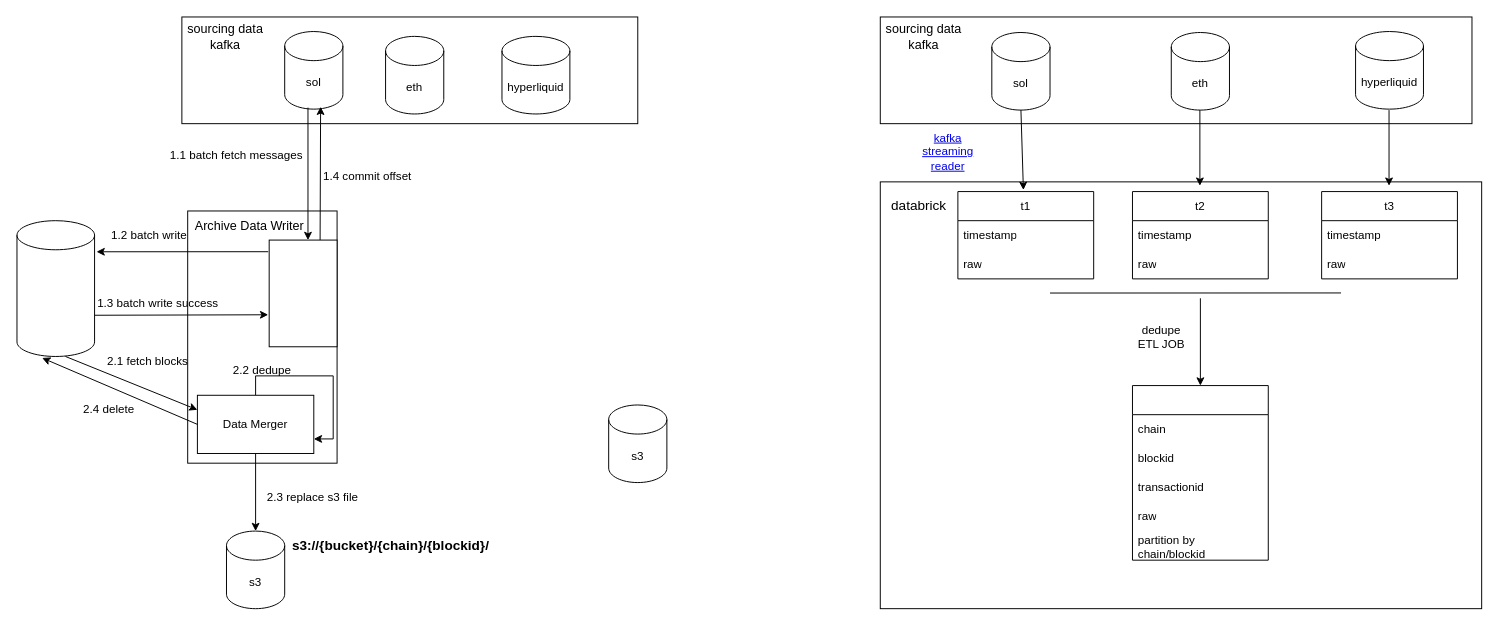
Some shapes in this 1499 by 626 pixel diagram are drawn without their labels. The box of each missing label's shape, as (x1, y1, x2, y2) in pixels:
Consumer: (268, 239, 337, 347)
List: (1132, 385, 1268, 560)
temp storage: (16, 220, 95, 356)
